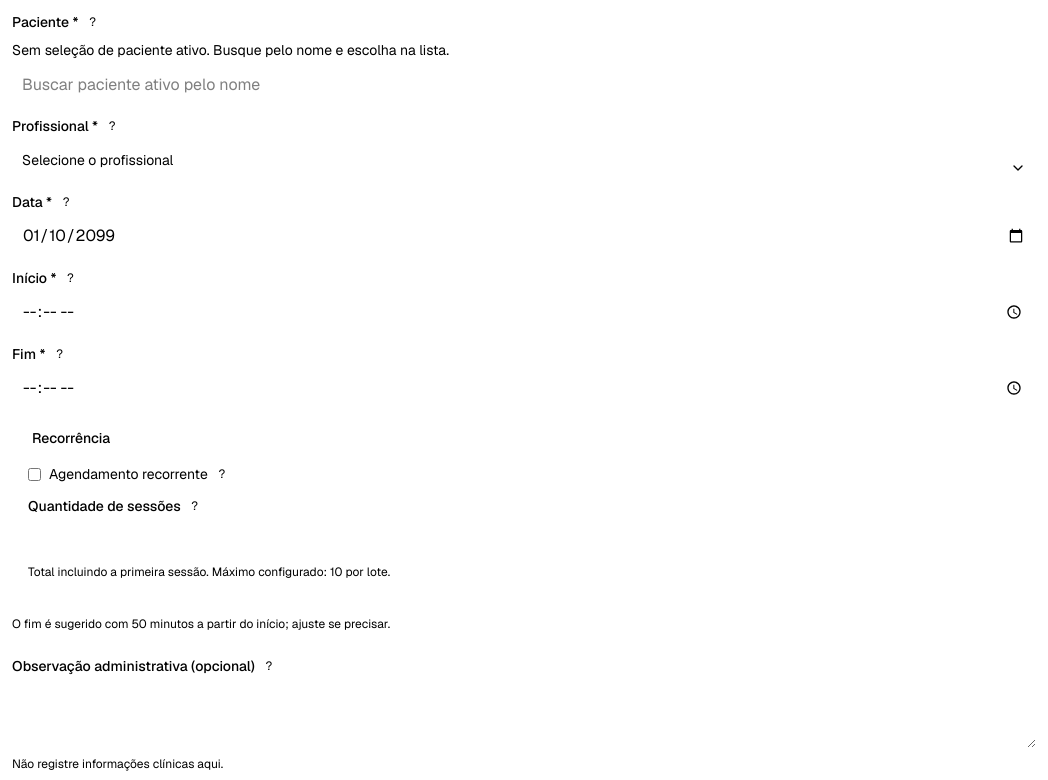
Test: AppointmentForm — duração sugerida (issue #63) › sugere o fim a partir do início e acompanha a mudança do início
Type "09:00" into the time field labelled "Início *".
click(524, 312); type("09:00")  # box [12,296,1036,328]
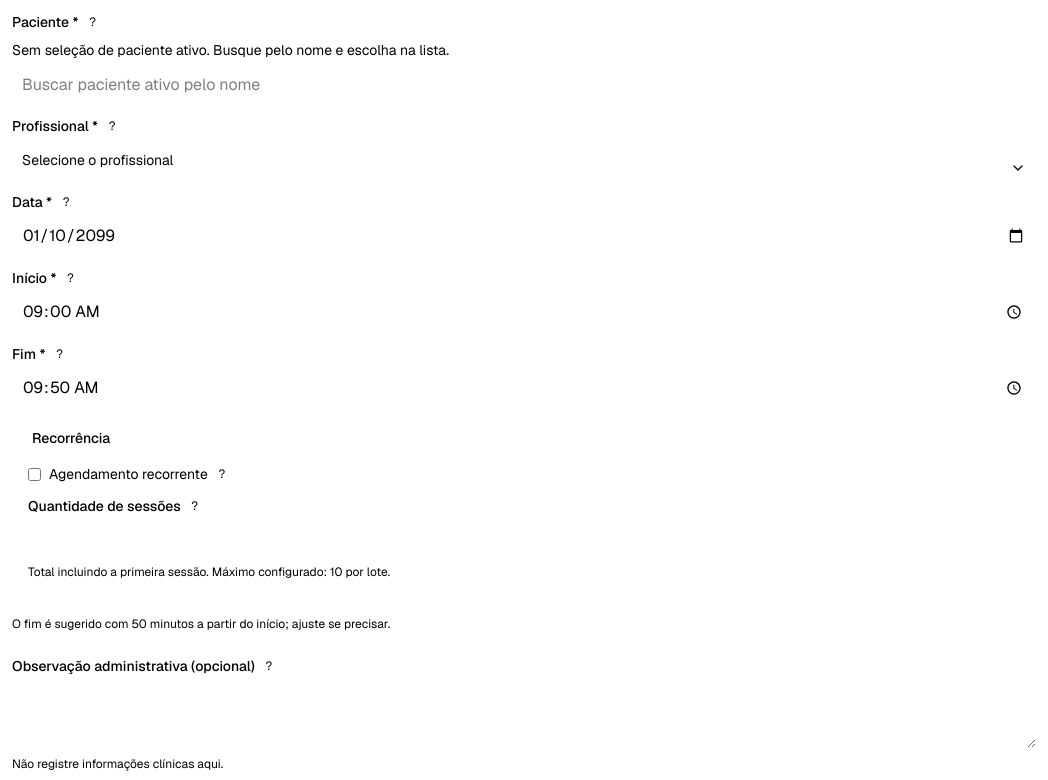
Check: the time field labelled "Fim *" holds "09:50", box [12,372,1036,404]
Replace the text in the time field labelled "Início *" with "10:15" at (524, 312), box [12,296,1036,328]
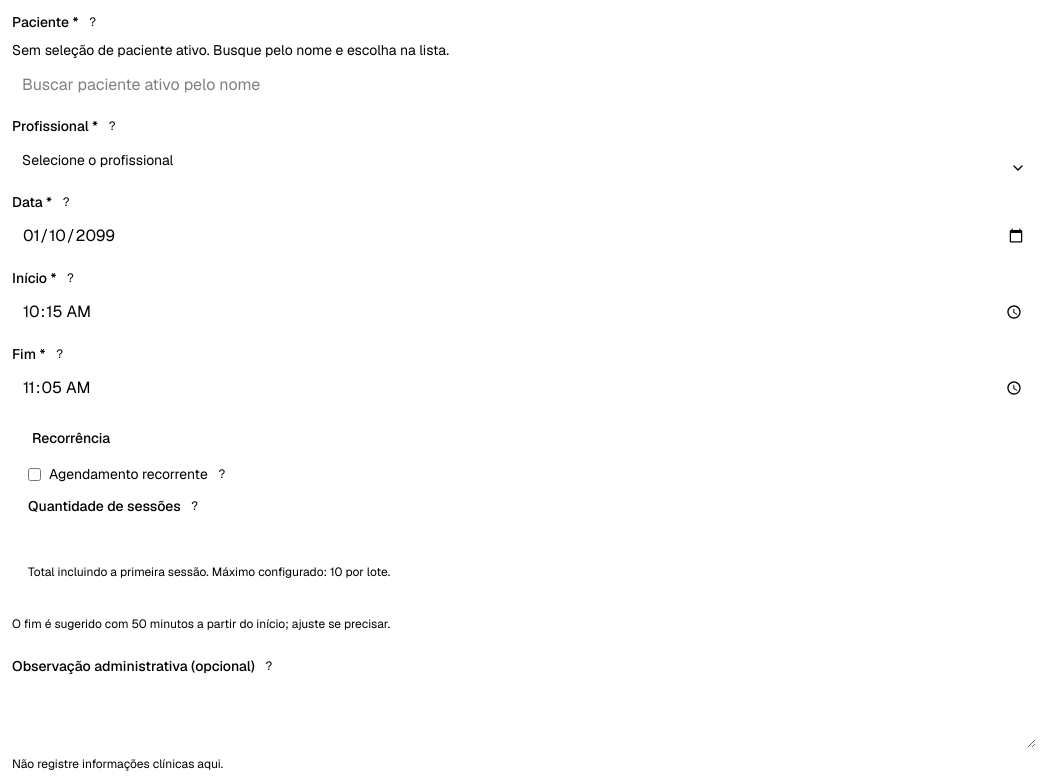
Check: the text "sugerido com 50 minutos" is shown, box [12,616,390,632]
Check: the time field labelled "Fim *" holds "11:05", box [12,372,1036,404]
